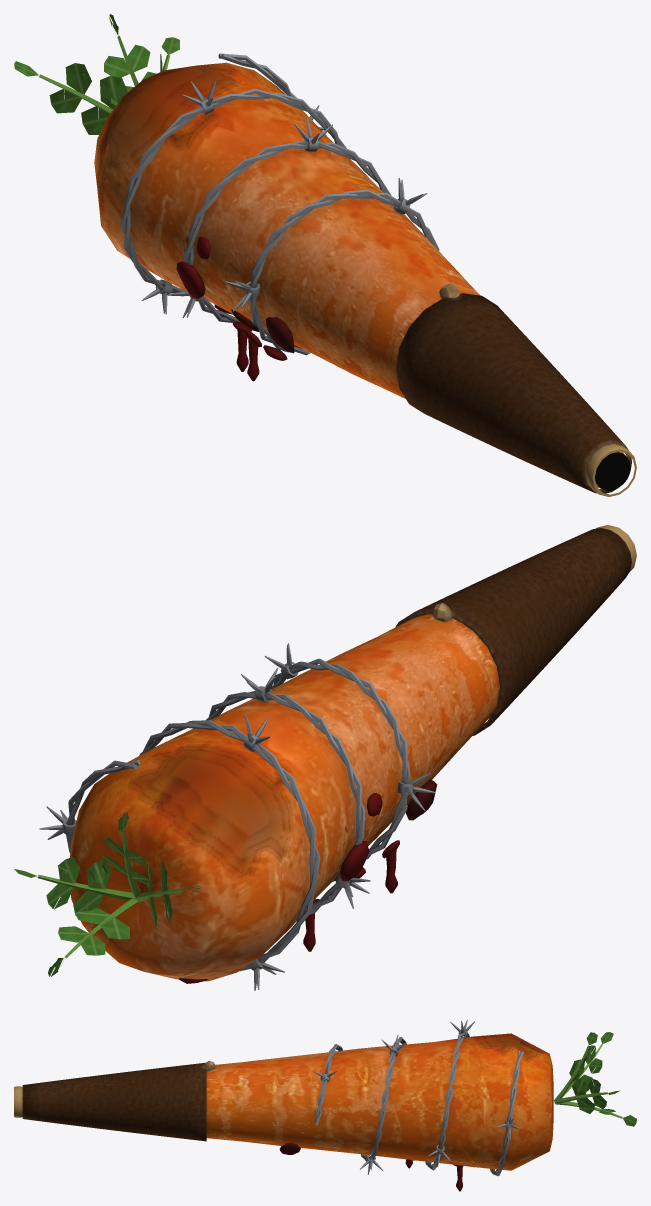
The model's file is melee_barbed_carrot.glb.
3 views of the same model, one above another, from view 1: azimuth 30°, elevation 25°; view 2: azimuth 150°, elevation 25°; view 3: azimuth 270°, elevation 25° (orthographic). The views are drawn at different scales.
Visible parts, largest first — view 1: melee_barbed_carrot; view 2: melee_barbed_carrot; view 3: melee_barbed_carrot.
Part boxes in pixels (x1,y1,x2,y2): melee_barbed_carrot: (14, 14, 636, 496); melee_barbed_carrot: (14, 525, 636, 990); melee_barbed_carrot: (14, 1019, 636, 1191).
Bounding box in the file's own units: 0.1087 × 0.1188 × 0.4267.
1 material, 1 textured.
